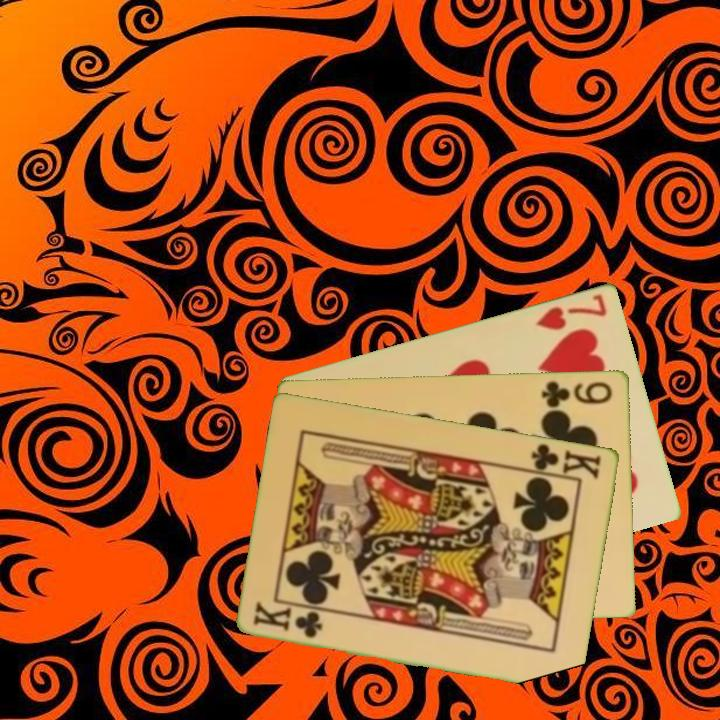7h: (532, 290, 610, 333)
9c: (538, 377, 615, 409)
Kc: (523, 439, 605, 481), (250, 600, 326, 641)
